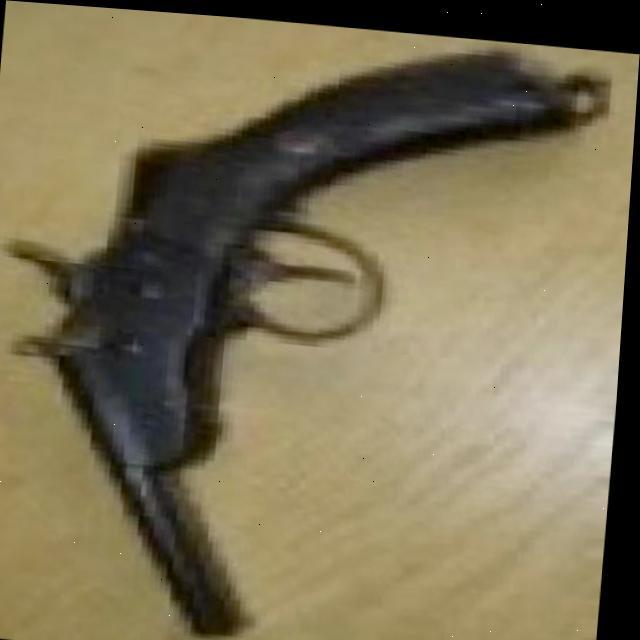gun: (0, 6, 571, 640)
